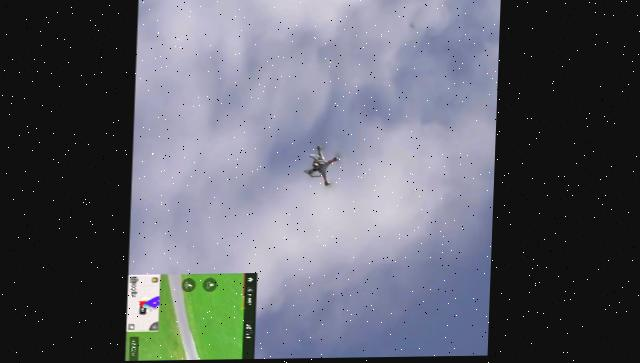drone: (302, 141, 343, 188)
